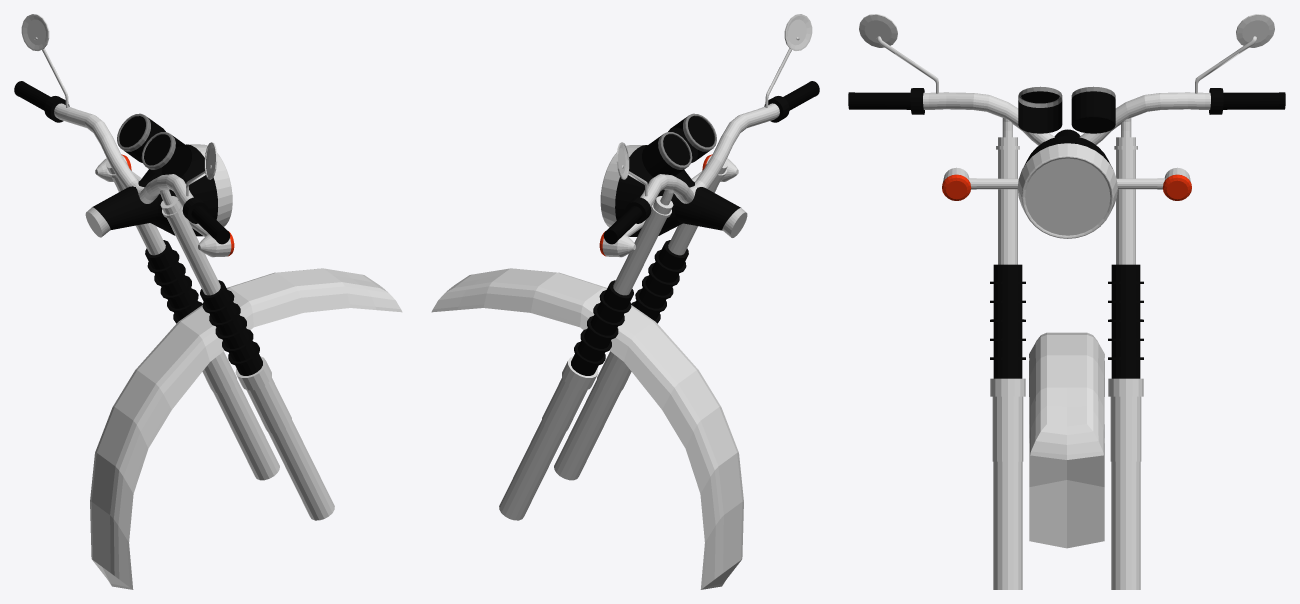
File: motor_handle_bar.obj
3 renders of one model, left to right at view 1: azimuth 30°, elevation 25°; view 2: azimuth 150°, elevation 25°; view 3: azimuth 270°, elevation 25°, orthographic. The views are drawn at different scales.
Visible parts, largest first — view 1: handle_bar_Cylinder.013; view 2: handle_bar_Cylinder.013; view 3: handle_bar_Cylinder.013.
Part boxes in pixels (x1,y1,x2,y2): handle_bar_Cylinder.013: (14,14,402,589); handle_bar_Cylinder.013: (431,14,819,589); handle_bar_Cylinder.013: (848,14,1285,589).
Bounding box in the file's own units: 2.08 × 3.32 × 2.43.
